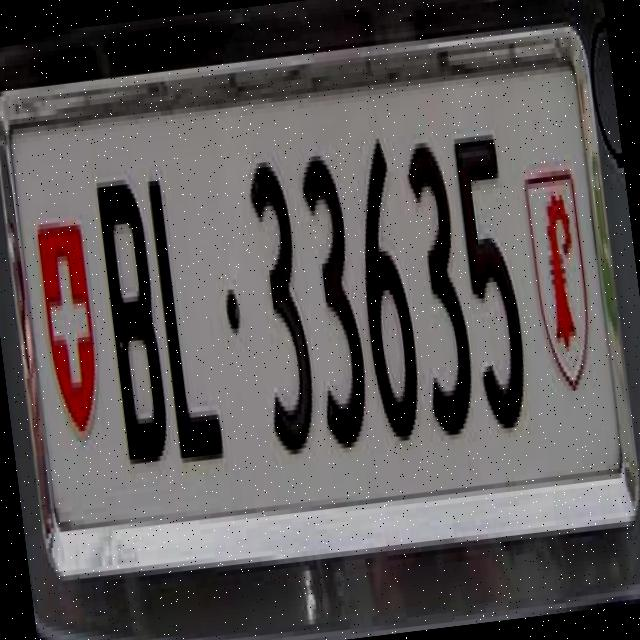Autre: (5, 54, 631, 548)
